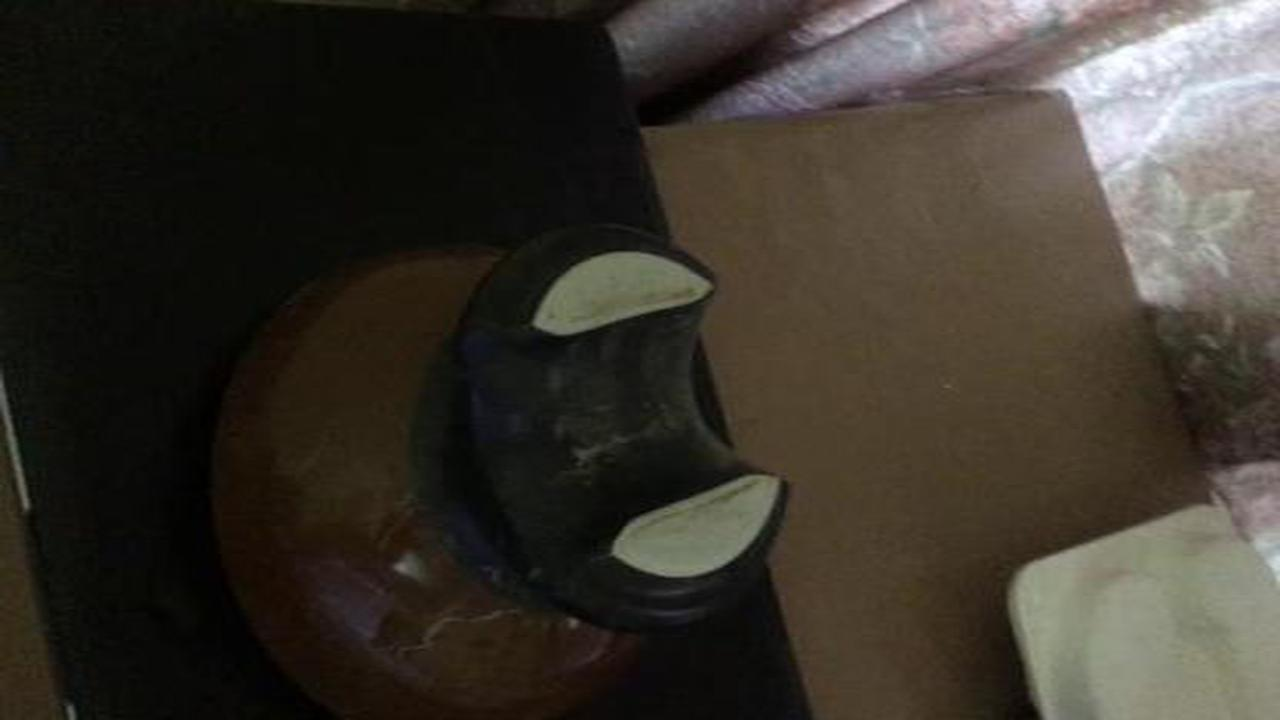insulator_pin: (173, 218, 810, 720)
